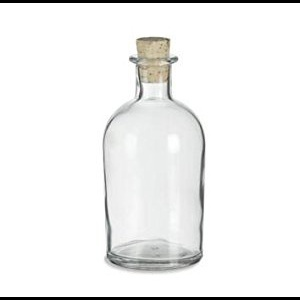emptybottle: (103, 37, 205, 271)
